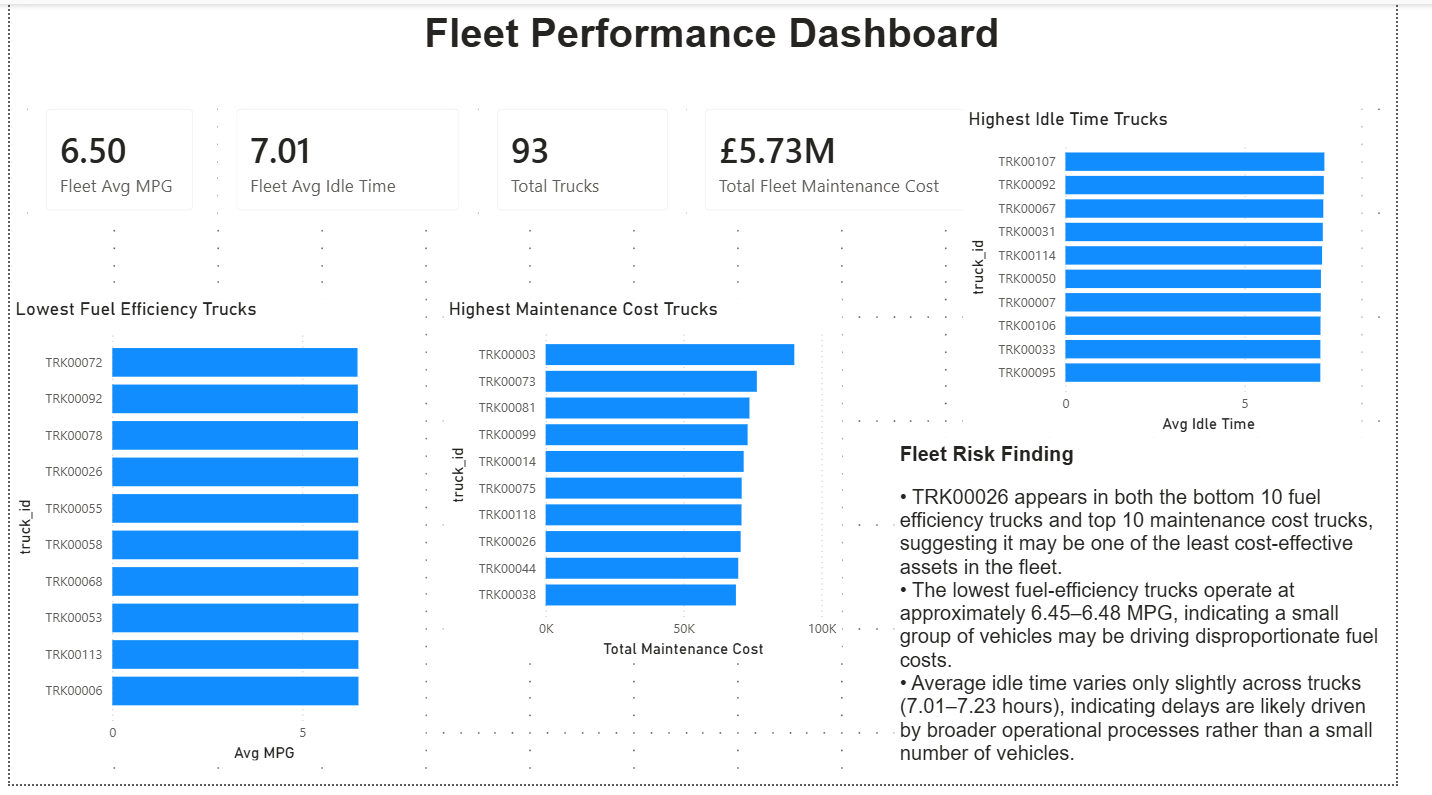

This screenshot's page, from the dashboard's own definition file:
{"tool":"powerbi","page":{"name":"Fleet Performance","canvas":[1280,720],"ordinal":1},"visuals":[{"type":"textbox","box":[16,0,1264,96],"z":0},{"type":"cardVisual","fields":{"Data":["trips.Avg MPG"]},"box":[16,80,170,128],"z":1000},{"type":"cardVisual","fields":{"Data":["trips.Avg Idle Time"]},"box":[192,80,240,128],"z":2000},{"type":"cardVisual","fields":{"Data":["trips.Total Trucks"]},"box":[432,80,192,128],"z":3000},{"type":"cardVisual","fields":{"Data":["maintenance_records5.Total Maintenance Cost"]},"box":[624,80,320,128],"z":4000},{"type":"barChart","title":"Highest Idle Time Trucks","fields":{"Category":["trips.truck_id"],"Y":["trips.Avg Idle Time"]},"box":[880,96,368,304],"z":5000},{"type":"barChart","title":"Highest Maintenance Cost Trucks","fields":{"Y":["maintenance_records5.Total Maintenance Cost"],"Category":["maintenance_records5.truck_id"]},"box":[400,272,368,336],"z":6000},{"type":"textbox","box":[816,400,464,320],"z":7000},{"type":"barChart","title":"Lowest Fuel Efficiency Trucks","fields":{"Category":["trips.truck_id"],"Y":["trips.Avg MPG"]},"box":[0,272,384,432],"z":8000}]}

Visuals, with their boxes in screenshot pixels (x1, y1, x2, y2), scaled from the page's 1280x720 canvas onto the 1432x795 screenshot:
textbox: 18,0,1431,106
cardVisual - trips.Avg MPG: 18,88,208,230
cardVisual - trips.Avg Idle Time: 215,88,483,230
cardVisual - trips.Total Trucks: 483,88,698,230
cardVisual - maintenance_records5.Total Maintenance Cost: 698,88,1056,230
"Highest Idle Time Trucks" barChart: 984,106,1396,442
"Highest Maintenance Cost Trucks" barChart: 447,300,859,671
textbox: 913,442,1431,794
"Lowest Fuel Efficiency Trucks" barChart: 0,300,430,777
